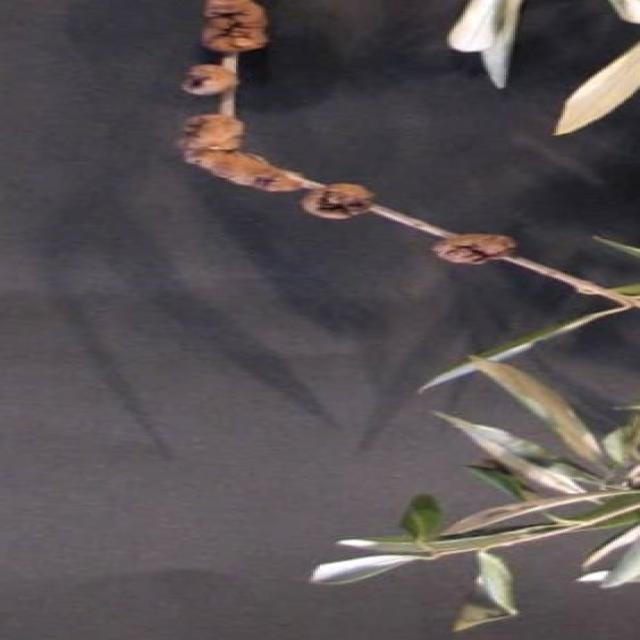Tuberculosis: (182, 112, 316, 192), (204, 0, 266, 54), (436, 234, 513, 264), (302, 184, 368, 218), (182, 64, 232, 94)
